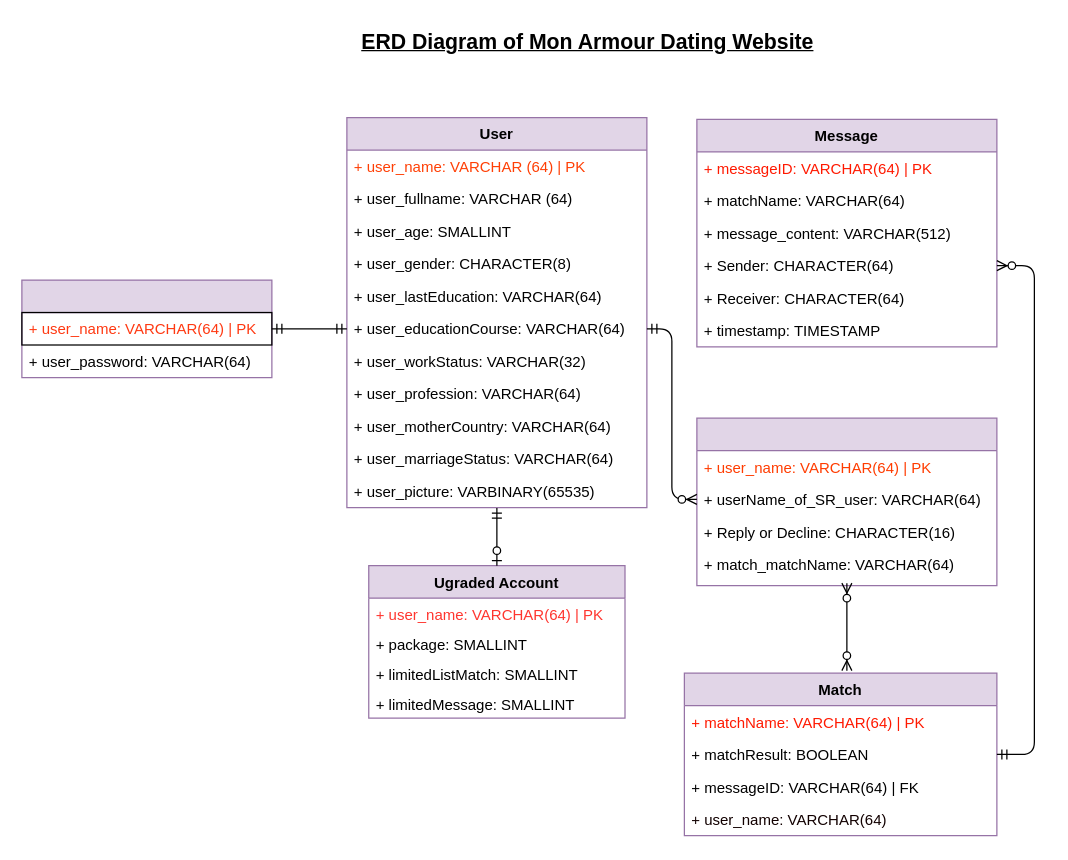
This 1068x860 diagram has some shape labels left out. The shapes that lost their labels are listed below. From the top down, each one's box as (x1, y1, x2, y2) in pixels, then its label:
(21, 279, 272, 378): Login Form
(696, 417, 997, 586): Regard
